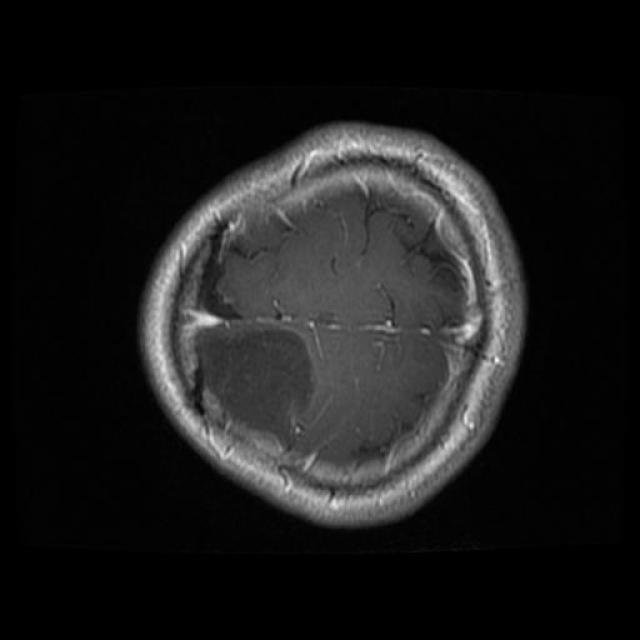Glioma: (196, 324, 315, 447)
